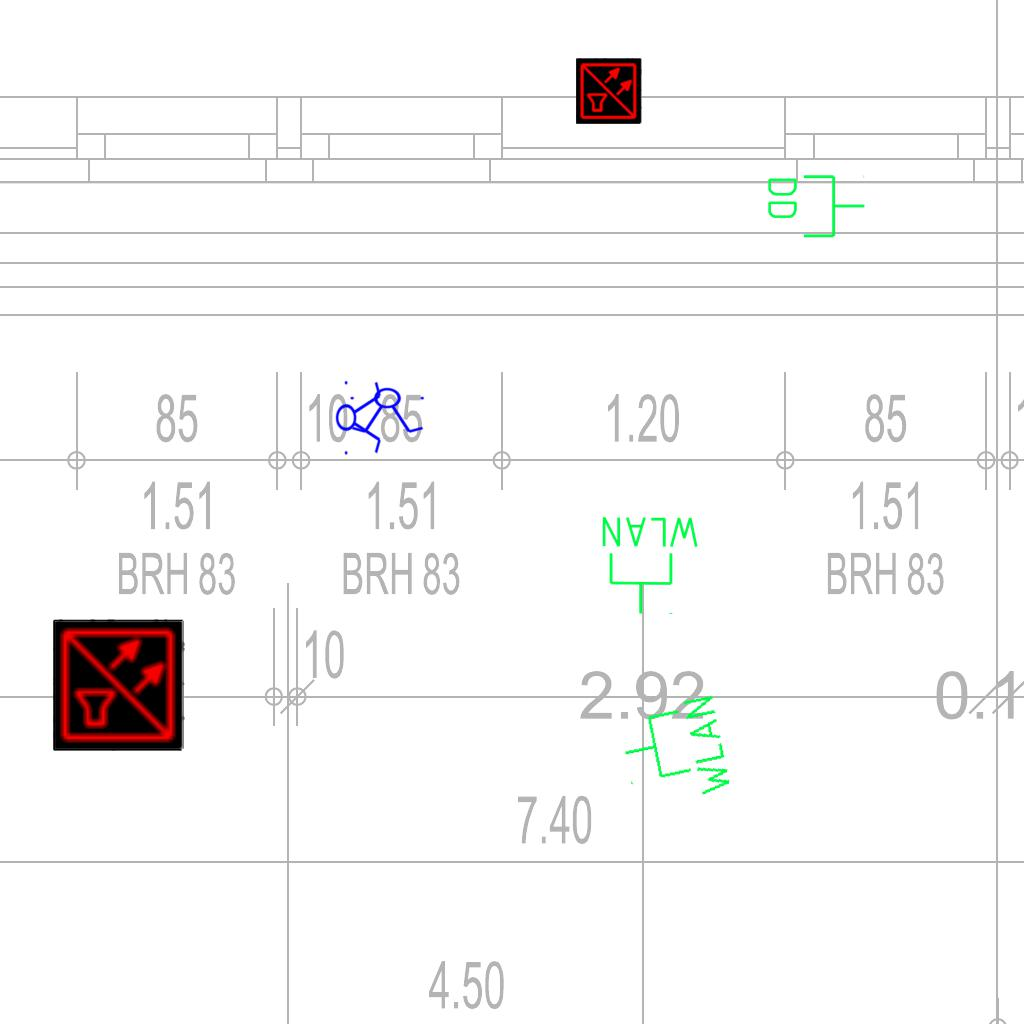Datenanschluss_zweifach: (764, 171, 867, 240)
OKW_Multisensormelder_(Kombination_optischer_Rauch-Kahlenmonoxid_Waerme-Melder): (53, 619, 185, 751), (576, 58, 642, 124)
Serienschalter: (335, 375, 383, 459), (346, 387, 430, 435)
WLAN: (613, 690, 737, 815), (598, 513, 703, 617)
